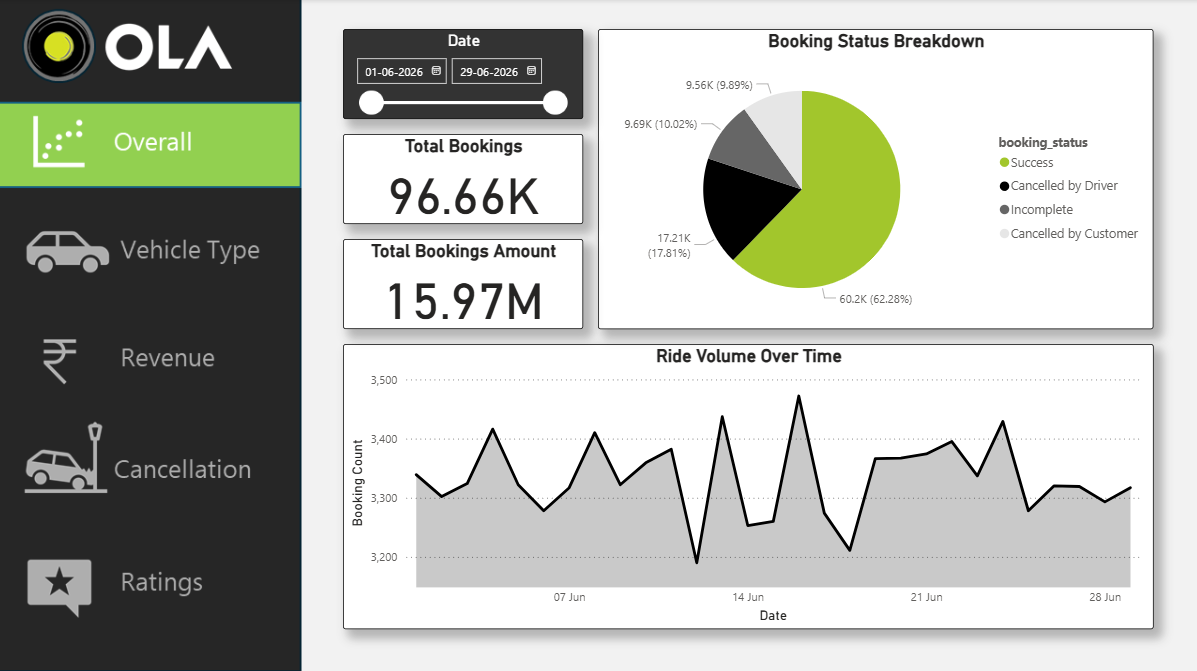

The dashboard page shown, as its layout file describes it:
{"tool":"powerbi","page":{"name":"Overall","canvas":[1280,720],"ordinal":0},"visuals":[{"type":"actionButton","box":[0,208,320,96],"z":0},{"type":"actionButton","box":[0,336,320,96],"z":1000},{"type":"actionButton","box":[0,448,320,96],"z":2000},{"type":"actionButton","box":[0,576,320,96],"z":3000},{"type":"lineChart","title":"Ride Volume Over Time","fields":{"Y":["CountNonNull(bengaluru_ride_bookings.booking_id)"],"Category":["bengaluru_ride_bookings.date"]},"box":[368,368,864,304],"z":4000},{"type":"pieChart","title":"Booking Status Breakdown","fields":{"Category":["bengaluru_ride_bookings.booking_status"],"Y":["CountNonNull(bengaluru_ride_bookings.booking_id)"]},"box":[640,32,592,320],"z":5000},{"type":"slicer","title":"Date","fields":{"Values":["bengaluru_ride_bookings.date"]},"box":[368,32,256,96],"z":6000},{"type":"card","title":"Total Bookings","fields":{"Values":["CountNonNull(bengaluru_ride_bookings.booking_id)"]},"box":[368,144,256,96],"z":7000},{"type":"card","title":"Total Bookings Amount","fields":{"Values":["Sum(bengaluru_ride_bookings.booking_value)"]},"box":[368,256,256,96],"z":8000}]}

Visuals, with their boxes in screenshot pixels (x1, y1, x2, y2), scaled from the page's 1280x720 canvas onto the 1197x671 screenshot:
actionButton: Rect(0, 194, 299, 283)
actionButton: Rect(0, 313, 299, 403)
actionButton: Rect(0, 418, 299, 507)
actionButton: Rect(0, 537, 299, 626)
"Ride Volume Over Time" lineChart: Rect(344, 343, 1152, 626)
"Booking Status Breakdown" pieChart: Rect(598, 30, 1152, 328)
"Date" slicer: Rect(344, 30, 584, 119)
"Total Bookings" card: Rect(344, 134, 584, 224)
"Total Bookings Amount" card: Rect(344, 239, 584, 328)
